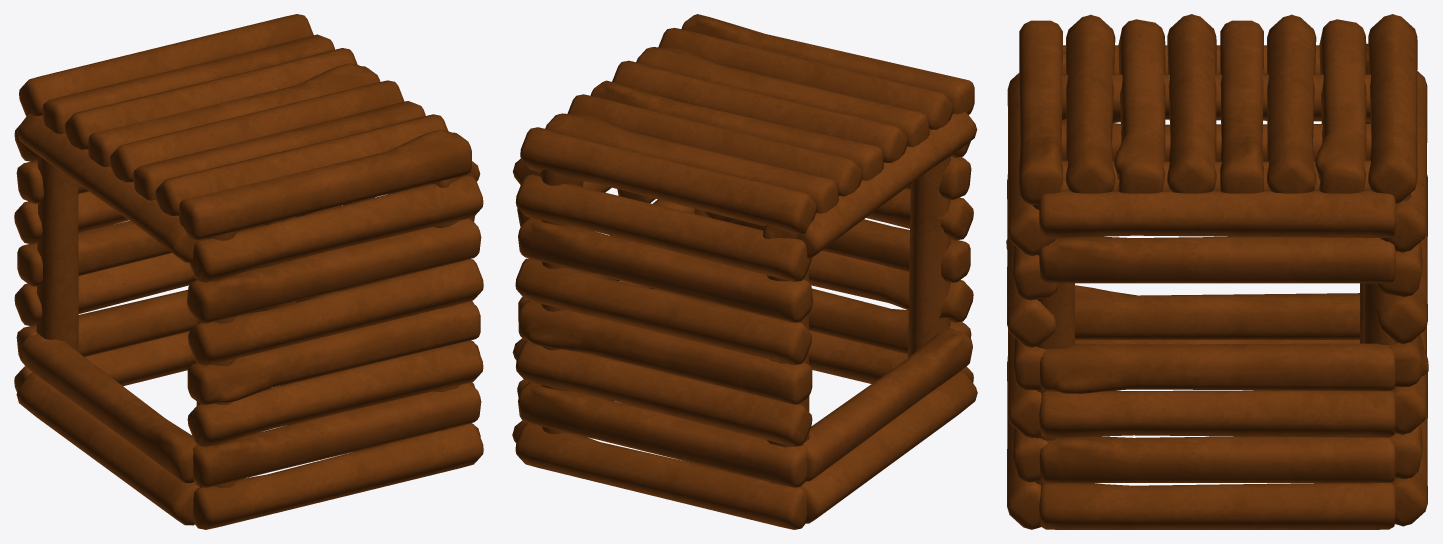
File: bunker.fbx
3 renders of one model, left to right at view 1: azimuth 30°, elevation 25°; view 2: azimuth 150°, elevation 25°; view 3: azimuth 270°, elevation 25°, orthographic. The views are drawn at different scales.
Parts seen in each view (by area): view 1: bunker; view 2: bunker; view 3: bunker.
Boxes of the visible parts, x1=… form: bunker: x1=14, y1=14, x2=483, y2=529; bunker: x1=512, y1=14, x2=977, y2=529; bunker: x1=1006, y1=14, x2=1428, y2=529.
Size of the model in its own units: 156 by 160 by 167.
Materials: 1 (1 with a texture image).
